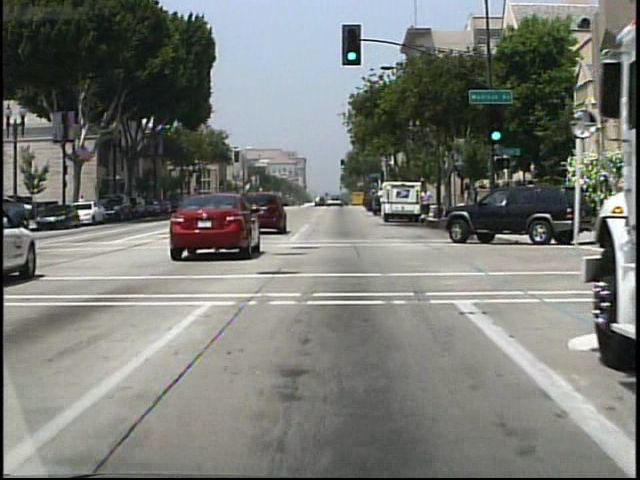person: (419, 187, 432, 219), (78, 192, 89, 218)
